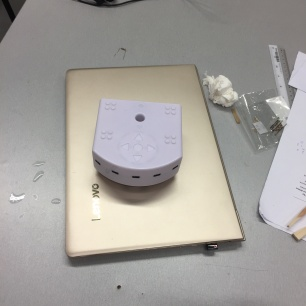thymio: (89, 95, 185, 189)
